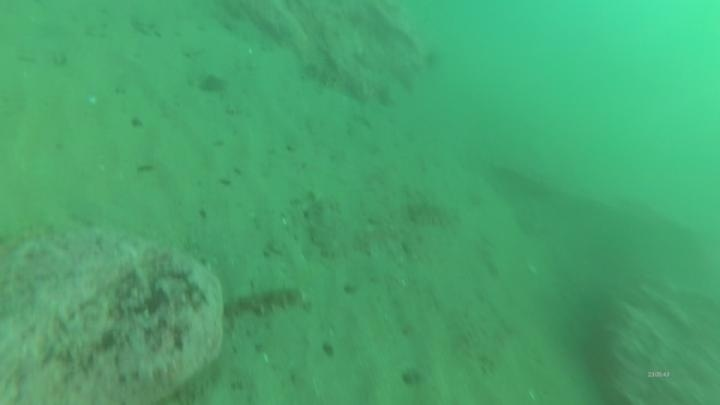holothurian: (224, 279, 306, 320), (402, 196, 461, 230)
